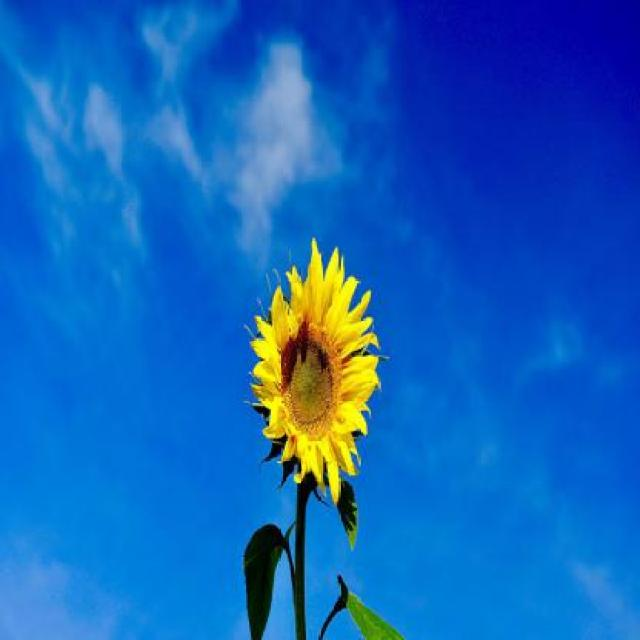sunflower: (243, 228, 382, 518)
